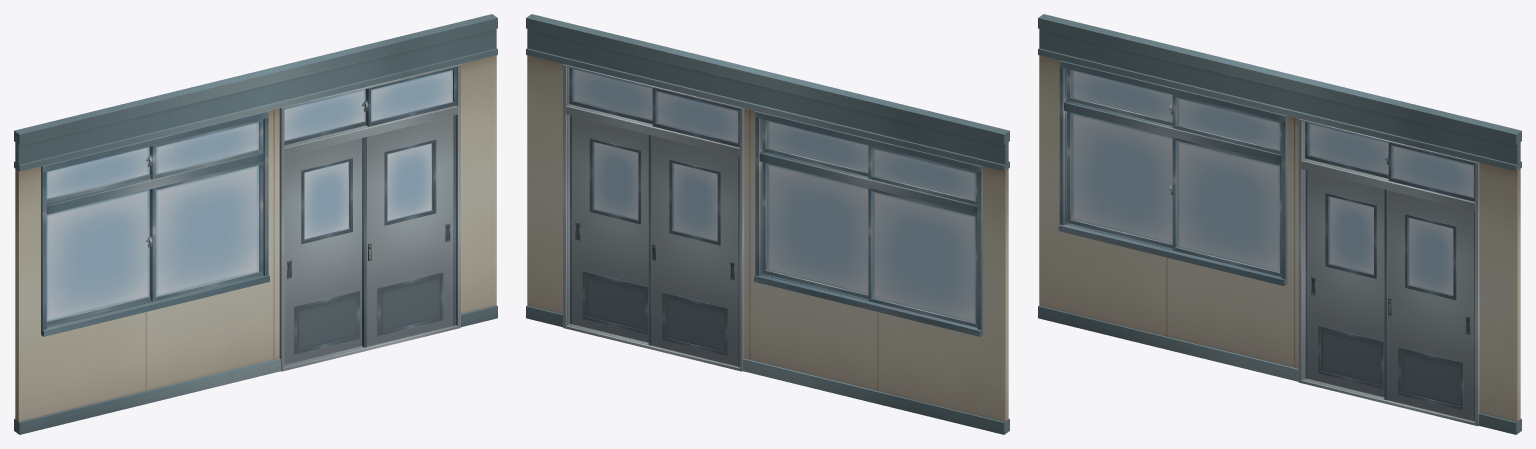
File: Door_01_02.fbx
3 views of the same model, side by side, from view 1: azimuth 30°, elevation 25°; view 2: azimuth 150°, elevation 25°; view 3: azimuth 330°, elevation 25° (orthographic).
Visible parts, largest first — view 1: wall01, glass_01 (×8), door01_R, door01_L, window, door_01, window01_01 (×2), window01_02 (×2), window02_01, window02_02; view 2: wall01, glass_02 (×8), door01_L, door01_R, window, door_01, window01_02 (×2), window01_01 (×2), window02_02, window02_01; view 3: wall01, glass_01 (×8), door01_R, door01_L, window, door_01, window01_01 (×2), window01_02 (×2), window02_01, window02_02.
Part boxes in pixels (x1,y1,x2,y2): wall01: (14, 14, 497, 434); glass_01 (×8): (46, 70, 452, 321); door01_R: (362, 115, 455, 347); door01_L: (284, 138, 361, 364); window: (41, 111, 269, 336); door_01: (279, 64, 460, 371); window01_01 (×2): (150, 89, 366, 301); window01_02 (×2): (46, 67, 456, 325); window02_01: (150, 119, 263, 179); window02_02: (46, 146, 150, 203); wall01: (526, 14, 1009, 434); glass_02 (×8): (572, 68, 975, 322); door01_L: (648, 135, 739, 366); door01_R: (570, 115, 648, 342); window: (754, 111, 982, 336); door_01: (563, 64, 744, 371); window01_02 (×2): (569, 67, 977, 327); window01_01 (×2): (652, 88, 868, 298); window02_02: (868, 145, 977, 205); window02_01: (762, 119, 868, 176); wall01: (1038, 14, 1521, 434); glass_01 (×8): (1071, 70, 1473, 295); door01_R: (1384, 189, 1474, 421); door01_L: (1305, 170, 1384, 397); window: (1058, 60, 1287, 286); door_01: (1298, 119, 1479, 426); window01_01 (×2): (1172, 122, 1388, 276); window01_02 (×2): (1067, 111, 1474, 248); window02_01: (1172, 94, 1281, 154); window02_02: (1067, 69, 1172, 125).
Bounding box in the file's own units: 500 × 300 × 17.
